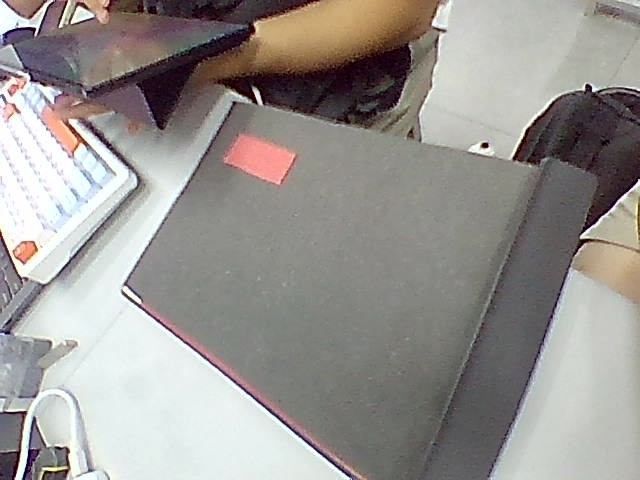card: (225, 133, 296, 184)
